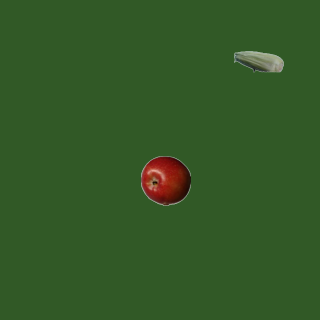Apple Braeburn: (140, 155, 190, 205)
Corn Husk: (233, 36, 283, 86)
